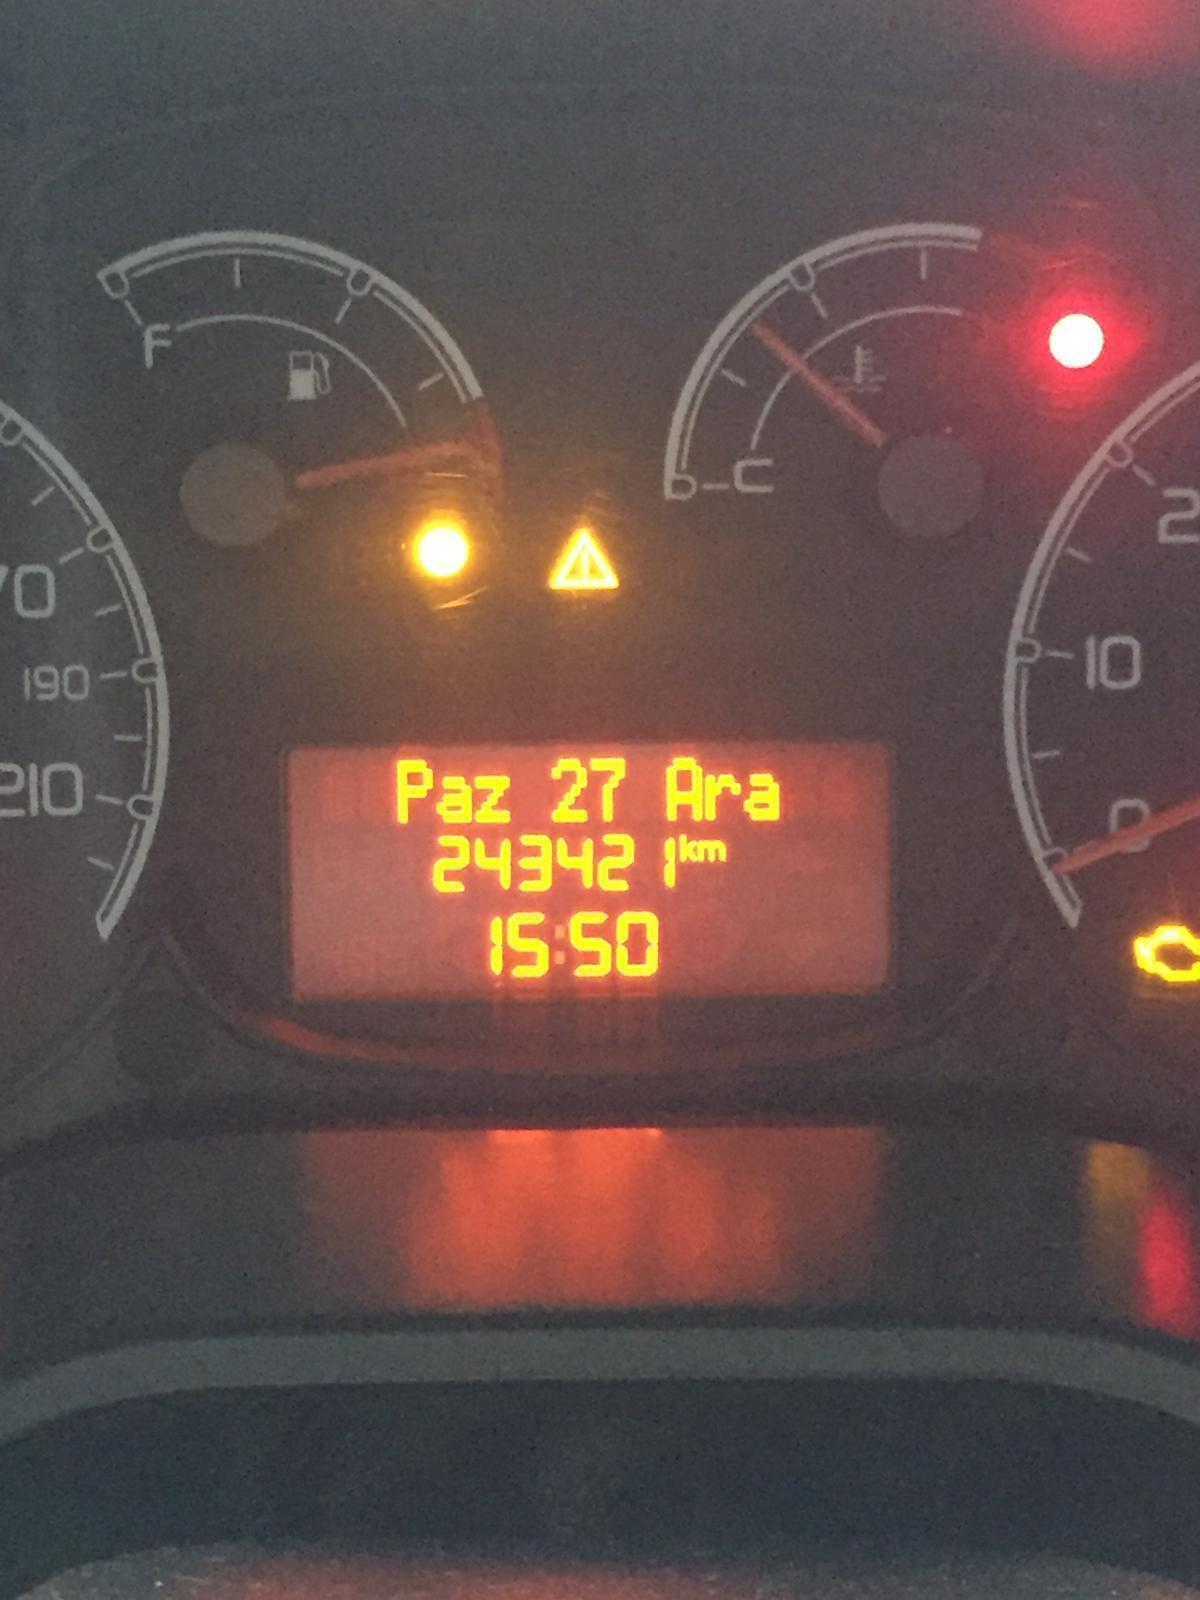0: (616, 906, 662, 980)
1: (483, 910, 504, 974), (658, 833, 679, 894)
2: (429, 834, 469, 898), (550, 753, 587, 821), (597, 828, 637, 891)
3: (514, 828, 555, 892)
4: (556, 831, 597, 889), (471, 833, 511, 889)
5: (505, 905, 552, 981), (568, 908, 614, 981)
7: (587, 755, 629, 821)
X: (661, 755, 702, 821), (392, 753, 432, 820), (471, 770, 513, 825), (744, 769, 782, 824), (434, 770, 471, 824), (703, 769, 740, 820), (550, 920, 568, 976), (698, 837, 729, 866), (677, 831, 698, 864)
odometer: (284, 743, 892, 993)
